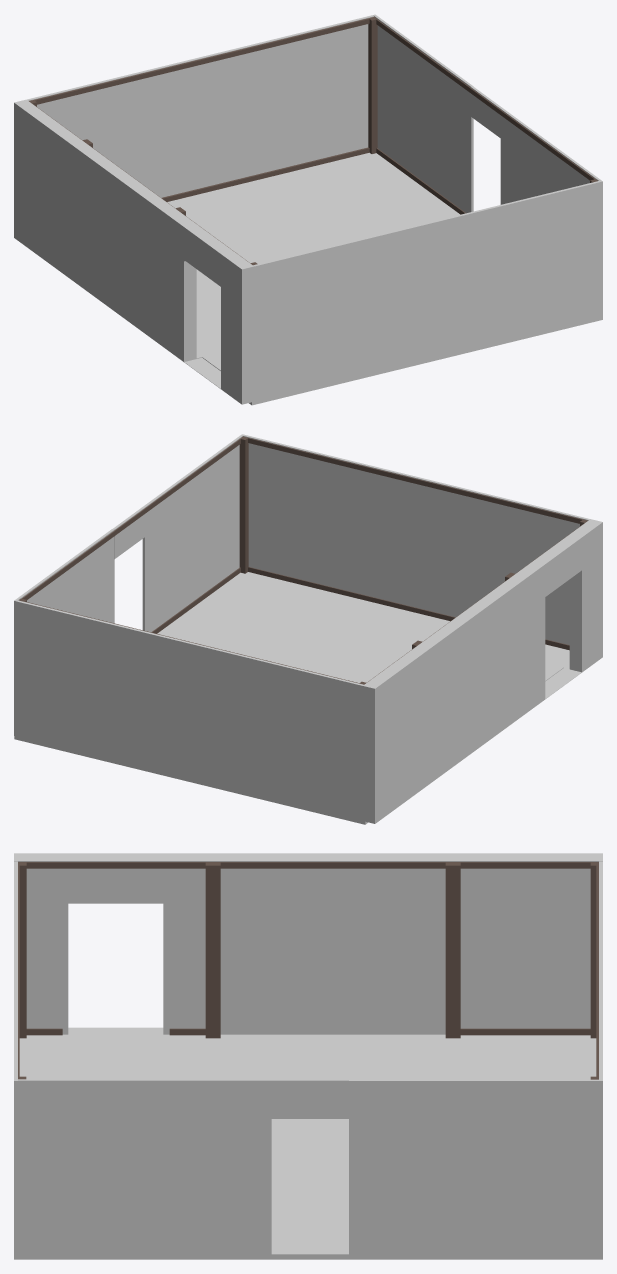
The model's file is Main_room.fbx.
3 views of the same model, one above another, from view 1: azimuth 30°, elevation 25°; view 2: azimuth 150°, elevation 25°; view 3: azimuth 270°, elevation 25° (orthographic). The views are drawn at different scales.
Visible parts, largest first — view 1: main_room; view 2: main_room; view 3: main_room.
Boxes of the visible parts, left/top/right/bottom form: main_room: left=14, top=14, right=602, bottom=405; main_room: left=14, top=434, right=602, bottom=824; main_room: left=14, top=853, right=602, bottom=1259.
Size of the model in its own units: 43.8 by 16.04 by 47.88.
